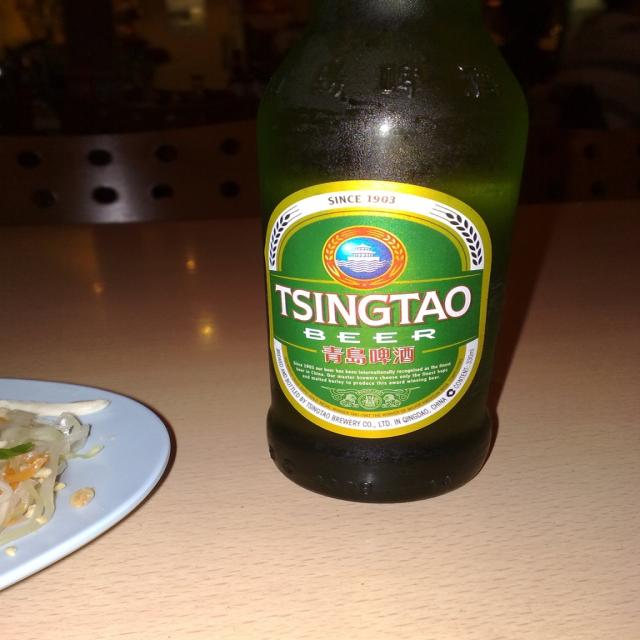tsingtao: (265, 181, 492, 441)
